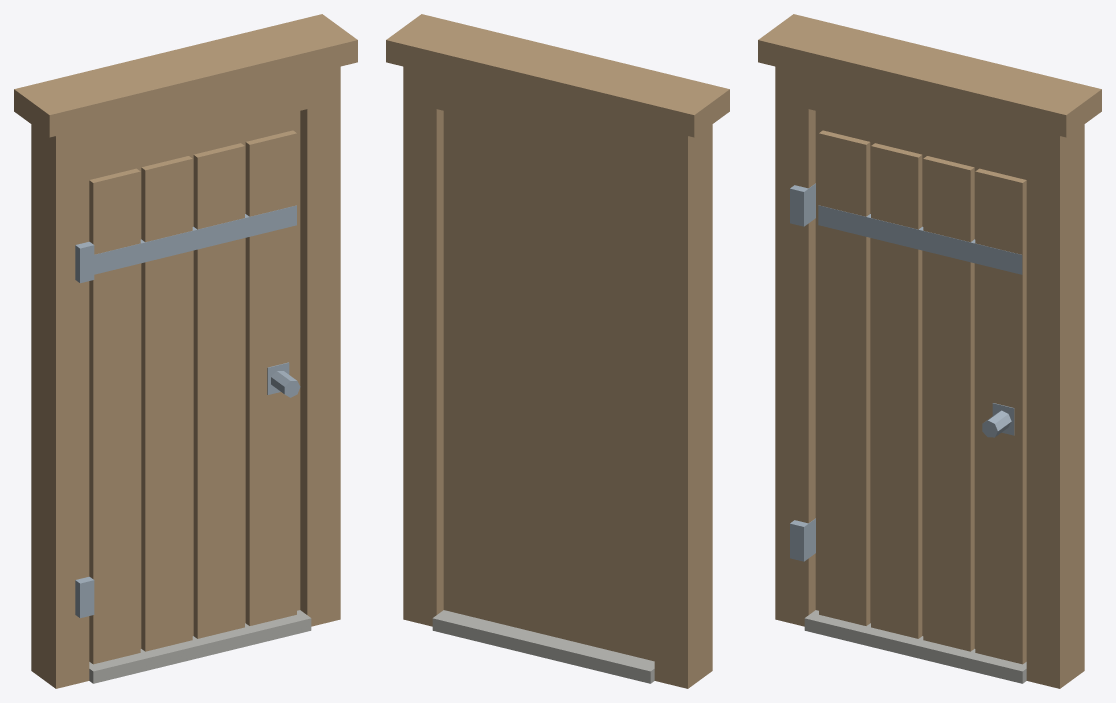
Rendered from wipe-day-survival-island-wooden-door-with-frame-7a23876f__27474.glb.
3 renders of one model, left to right at view 1: azimuth 30°, elevation 25°; view 2: azimuth 150°, elevation 25°; view 3: azimuth 330°, elevation 25°, orthographic.
Visible parts, largest first — view 1: door/wood, wooden-door-with-frame, door/metal; view 2: door/wood, wooden-door-with-frame; view 3: door/wood, wooden-door-with-frame, door/metal.
Boxes of the visible parts, x1,y1,x2,y2 form: door/wood: (89,111,300,664); wooden-door-with-frame: (14,14,357,688); door/metal: (94,205,300,397); door/wood: (443,111,654,661); wooden-door-with-frame: (386,14,729,688); door/wood: (815,111,1026,664); wooden-door-with-frame: (758,14,1101,688); door/metal: (818,205,1022,437).
Size of the model in its own units: 1.3 by 2.34 by 0.2999.
